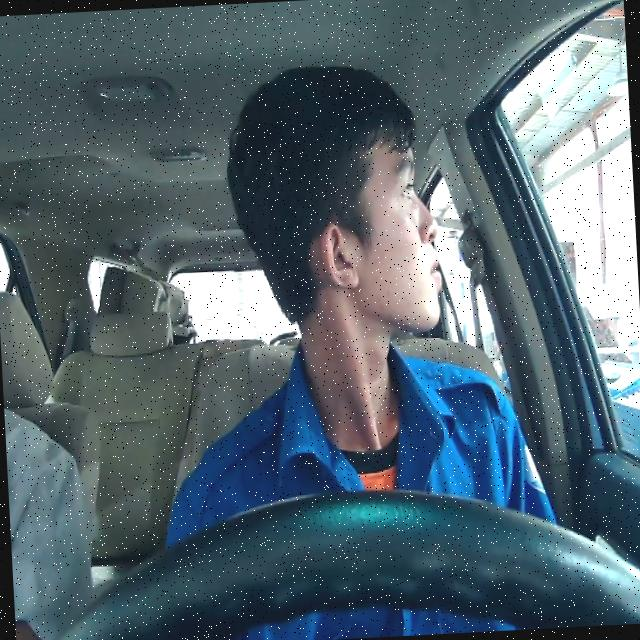seeing_right: (310, 112, 448, 338)
